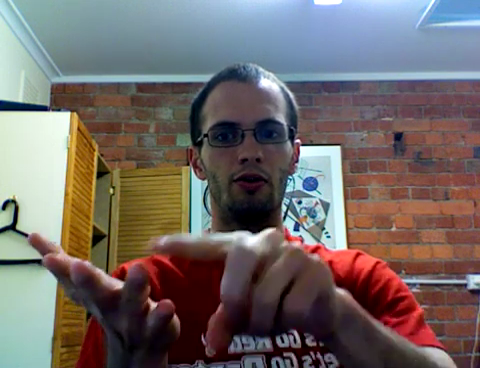O: (18, 218, 340, 368)
